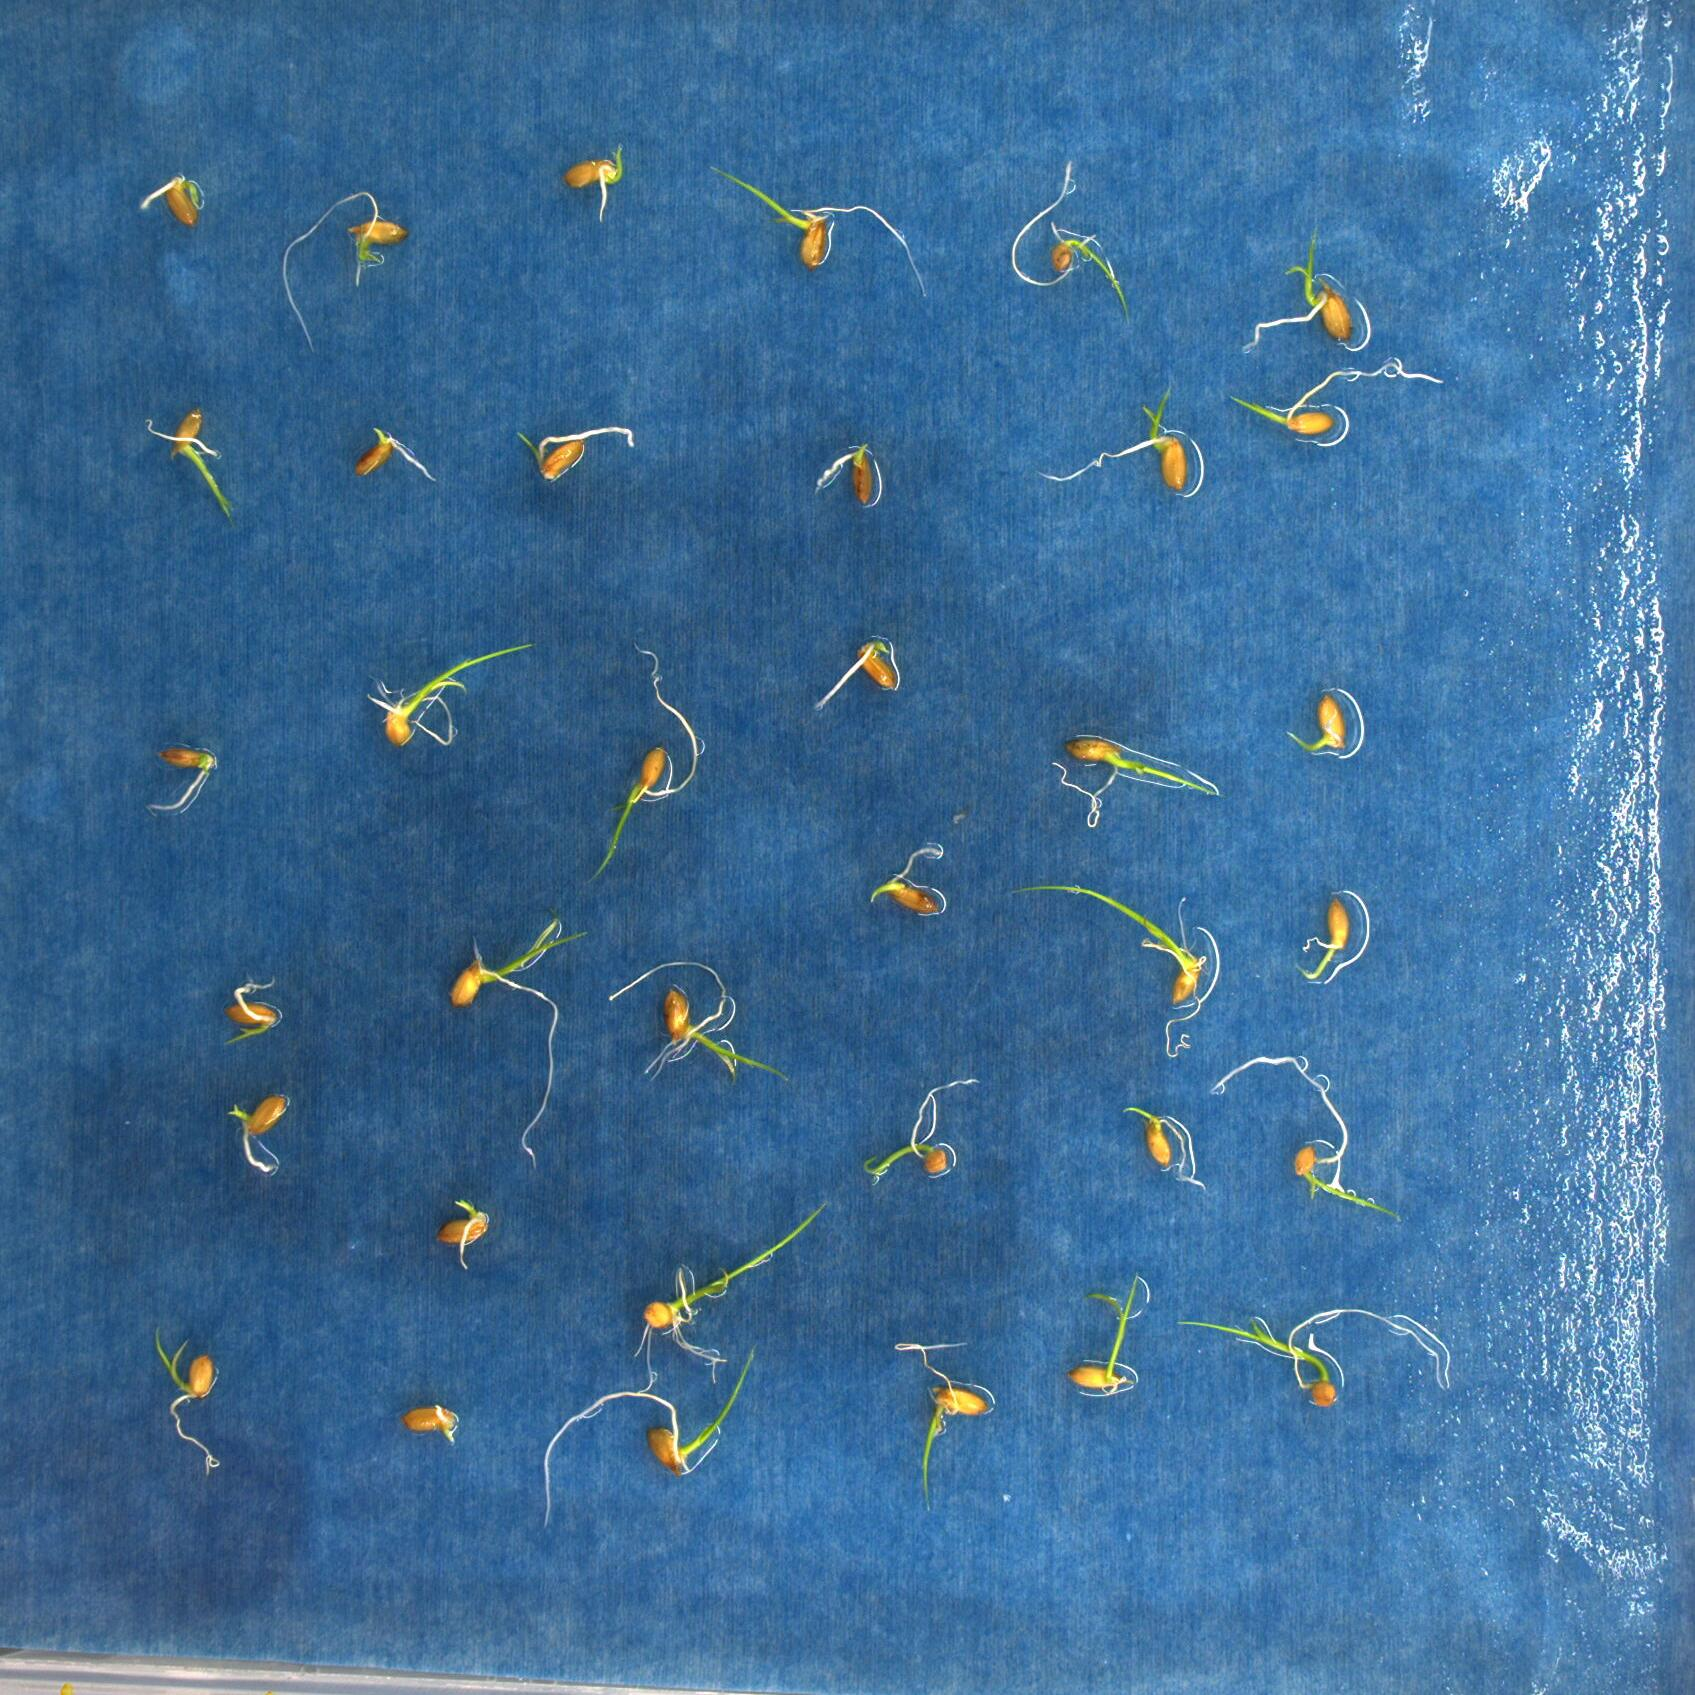not sprout: (809, 636, 903, 709), (144, 744, 216, 818), (355, 427, 442, 487), (230, 1090, 287, 1177), (818, 438, 879, 508), (435, 1200, 489, 1267), (397, 1403, 458, 1437)
sprout: (539, 1341, 764, 1529), (633, 1198, 830, 1388), (447, 917, 591, 1167), (1004, 880, 1206, 1057), (1209, 1052, 1405, 1225), (705, 158, 931, 301), (1173, 1301, 1451, 1409), (594, 643, 705, 879), (607, 956, 796, 1090), (282, 186, 411, 359), (1003, 161, 1132, 321), (369, 636, 540, 747), (1223, 355, 1450, 435), (1034, 383, 1197, 492), (1239, 216, 1358, 360), (1049, 736, 1218, 834), (896, 1336, 987, 1513), (860, 1073, 973, 1184), (141, 405, 237, 525), (151, 1322, 225, 1471), (1069, 1270, 1147, 1395), (512, 421, 640, 483), (871, 832, 941, 917), (1296, 889, 1354, 981), (567, 143, 627, 224), (1122, 1101, 1183, 1177), (216, 979, 279, 1049), (1284, 694, 1349, 756), (138, 172, 206, 230)
